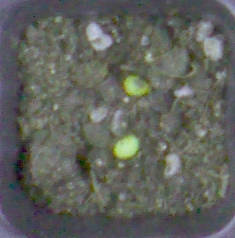pepper seed: (42, 53, 183, 214), (47, 25, 199, 122)
